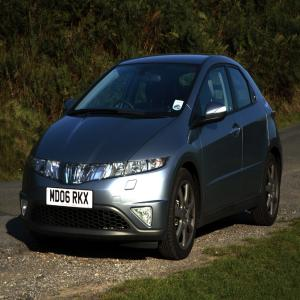Vehicle-registration-plate: (46, 189, 93, 208)
